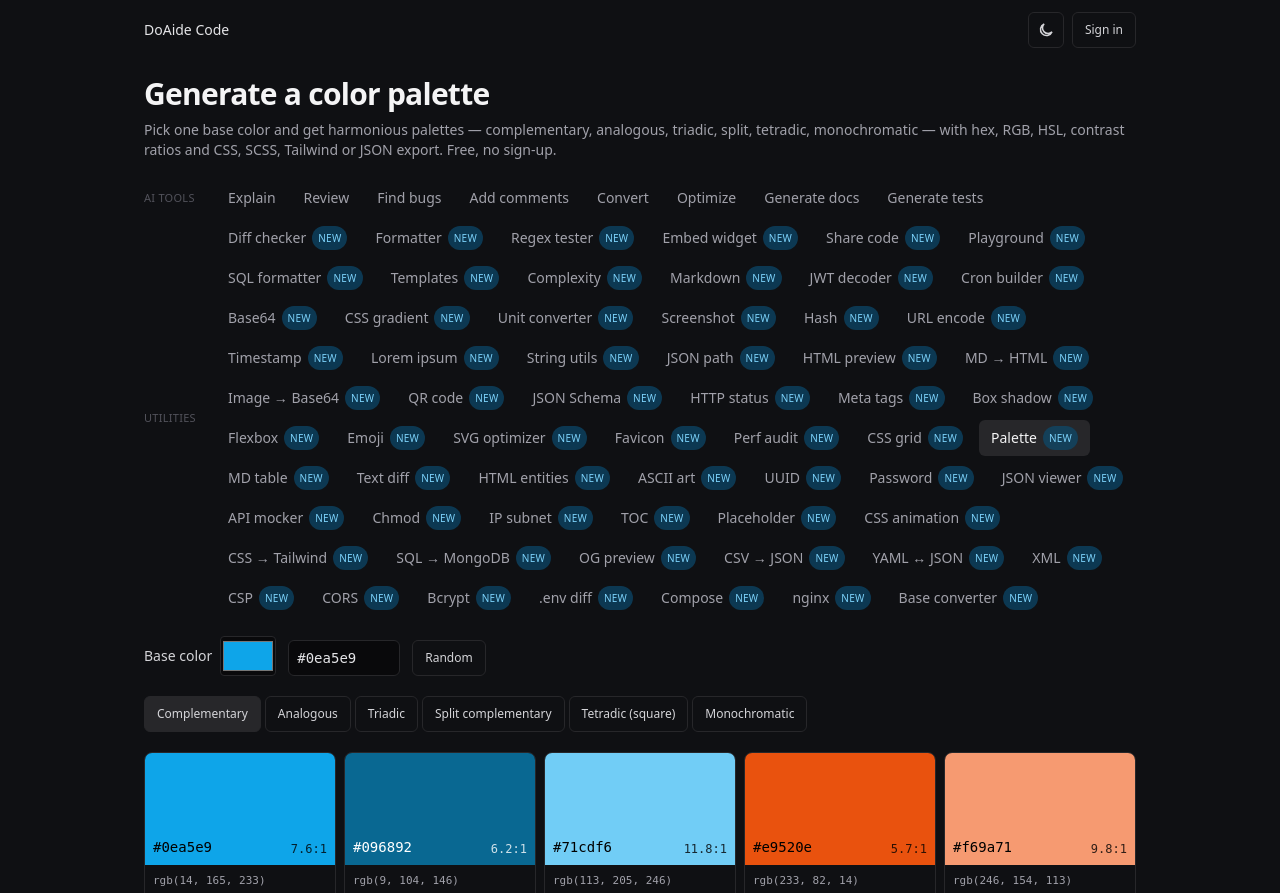
PalettePage › follows a typed hex and switches scheme
Replace the text in the field with test id "palette-hex" with "#ff0000" at (344, 658), box [288, 640, 400, 676]
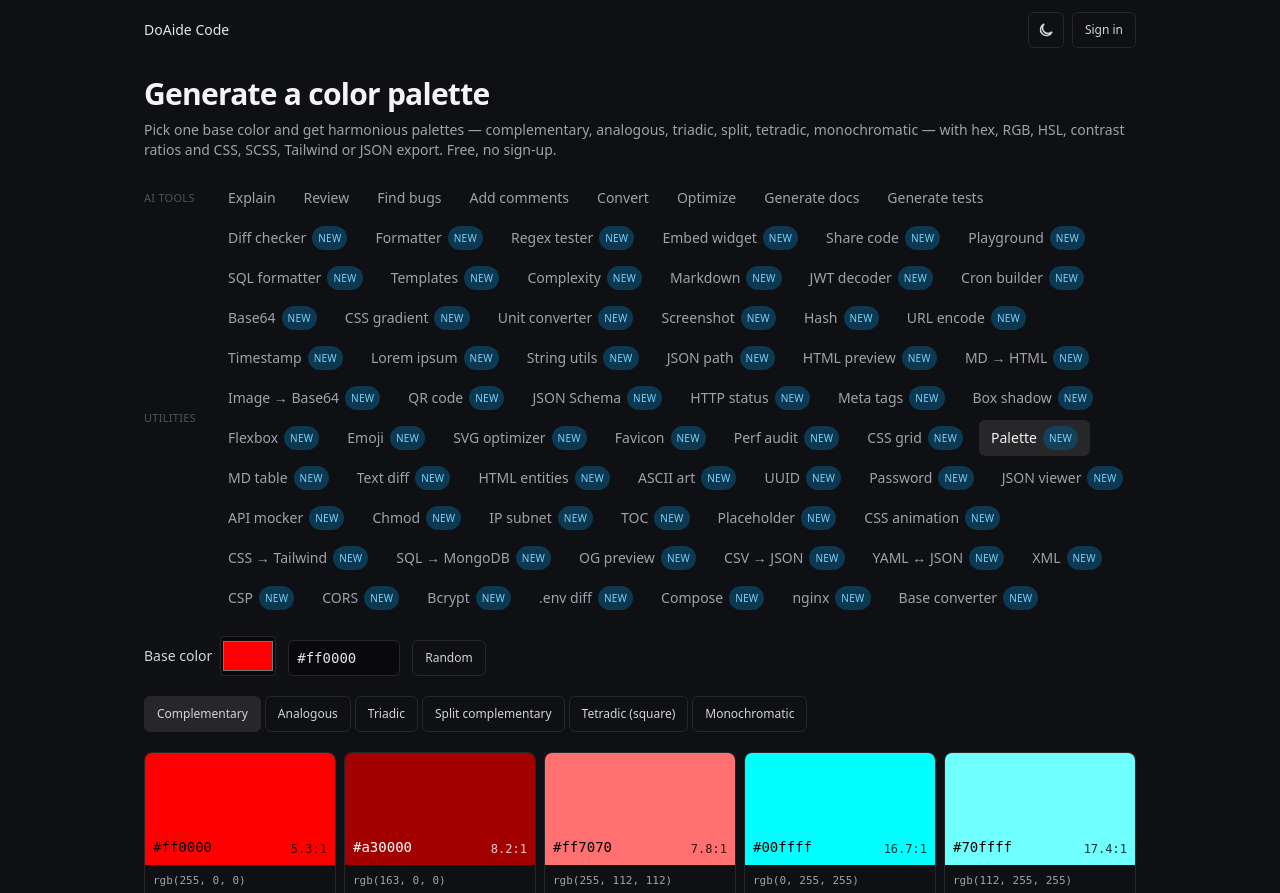
Click the tab with test id "palette-scheme-triadic".
click(386, 714)  # box [355, 696, 418, 732]
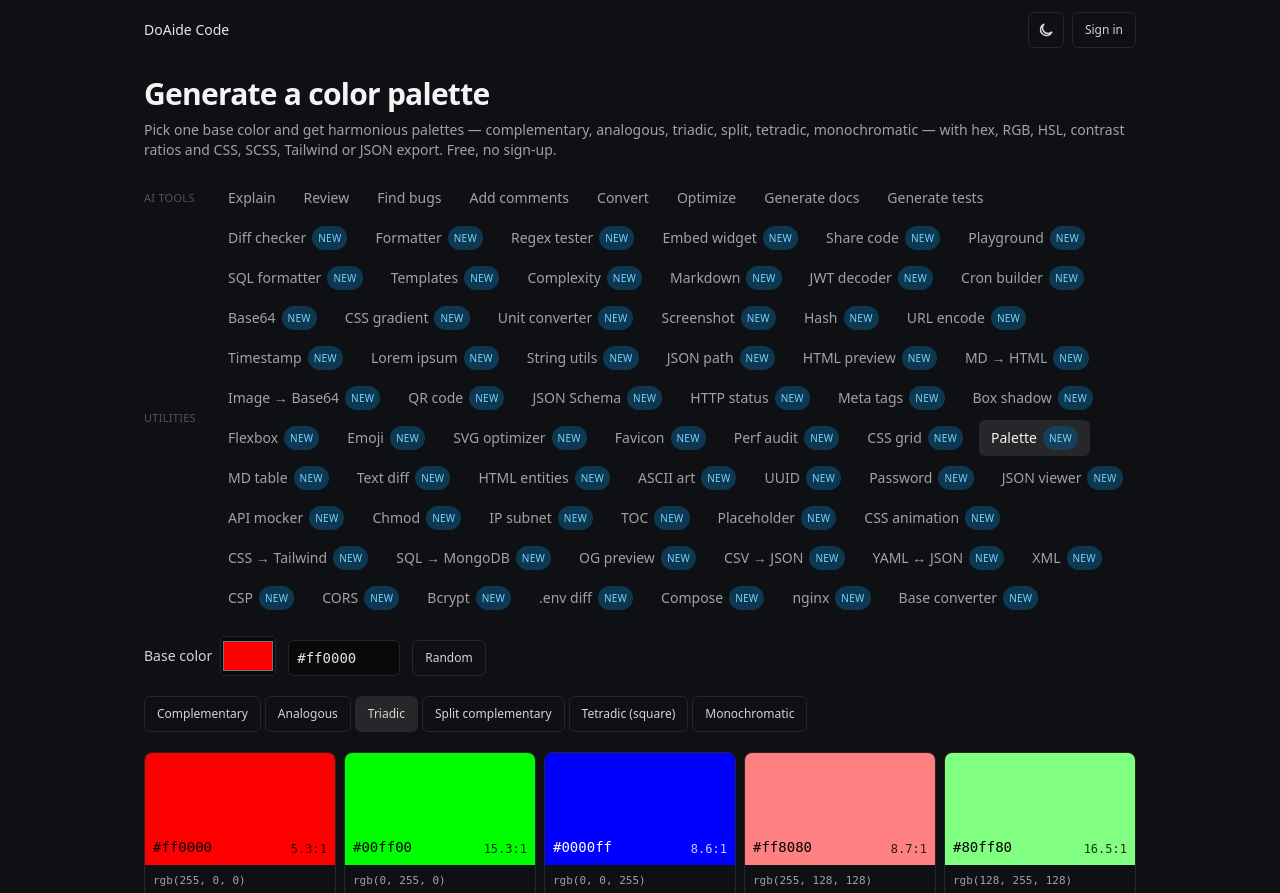
Check: the button with test id "palette-swatch-1" shows "#00ff00", box [345, 753, 535, 865]
Check: the button with test id "palette-swatch-2" shows "#0000ff", box [545, 753, 735, 865]
